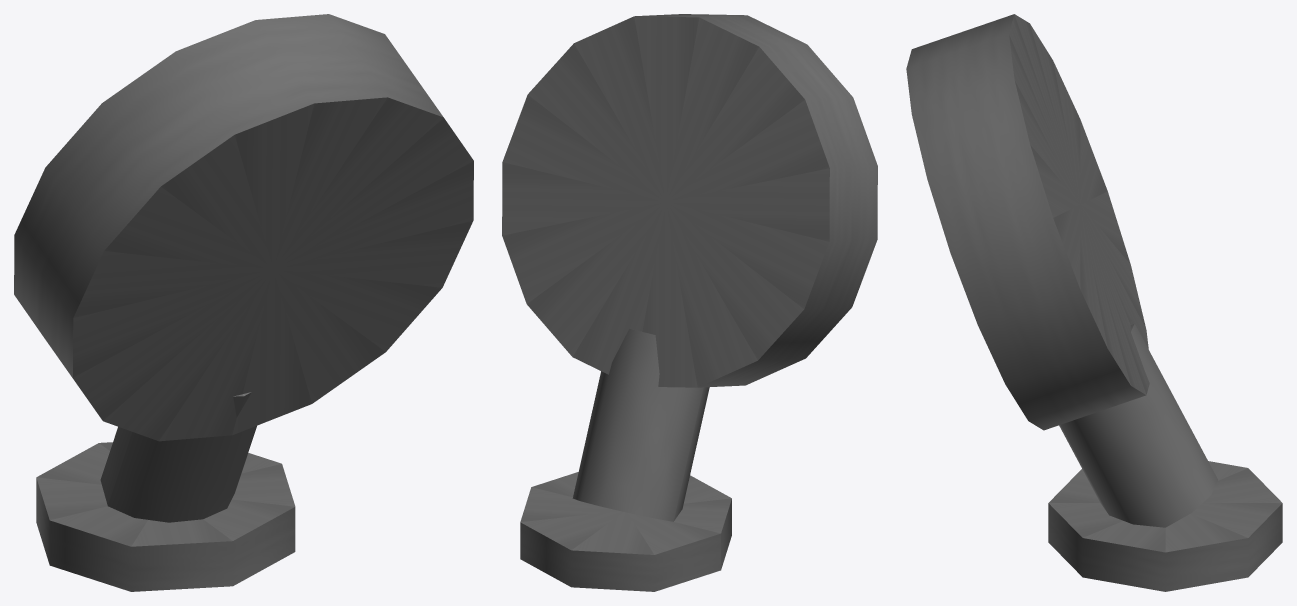
The model's file is mastarmcurve_5x1_c0_down.obj.
3 renders of one model, left to right at view 1: azimuth 30°, elevation 25°; view 2: azimuth 150°, elevation 25°; view 3: azimuth 270°, elevation 25°, orthographic. The views are drawn at different scales.
Parts seen in each view (by area): view 1: mastarm_5x1_c0_down; view 2: mastarm_5x1_c0_down; view 3: mastarm_5x1_c0_down.
Part boxes in pixels (<box>): mastarm_5x1_c0_down: <box>14,14,473,591</box>; mastarm_5x1_c0_down: <box>502,14,877,591</box>; mastarm_5x1_c0_down: <box>906,14,1282,591</box>.
Size of the model in its own units: 0.6892 by 0.9588 by 0.6426.
